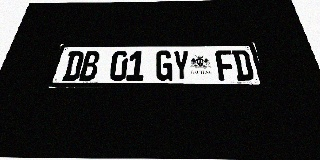0: (109, 51, 129, 81)
1: (126, 51, 145, 81)
B: (79, 51, 101, 81)
D: (61, 51, 85, 81), (232, 50, 255, 81)
F: (215, 50, 237, 81)
G: (155, 51, 173, 81)
Y: (173, 51, 190, 81)
